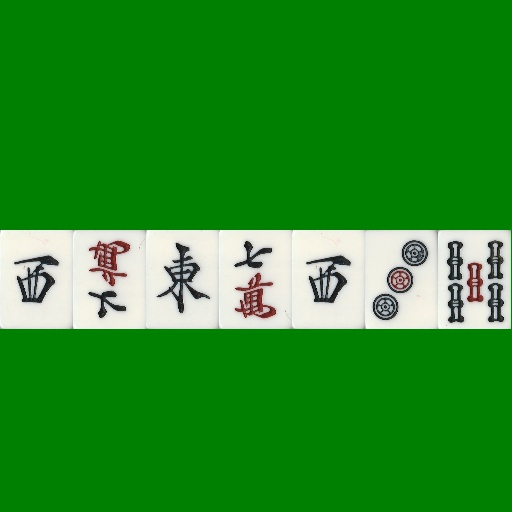3p: (365, 230, 438, 329)
5s: (438, 230, 511, 329)
7m: (73, 230, 146, 329), (219, 230, 292, 329)
east: (146, 230, 219, 329)
west: (0, 230, 73, 329), (292, 230, 365, 329)
